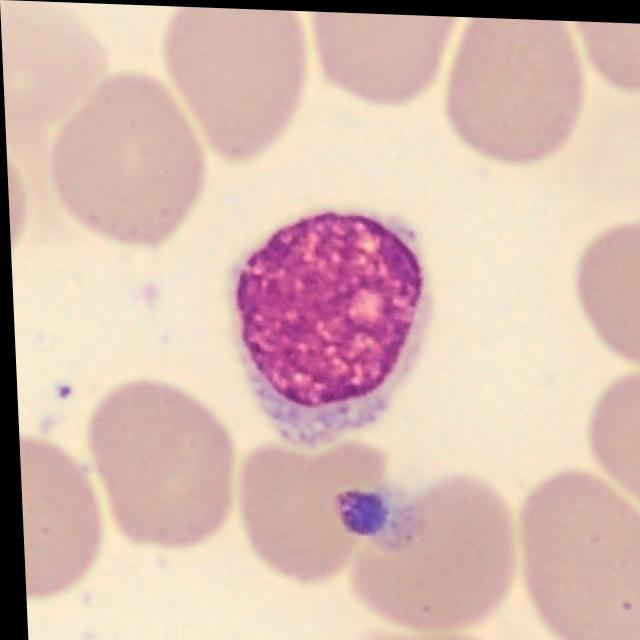Linfocito: (231, 207, 424, 438)
